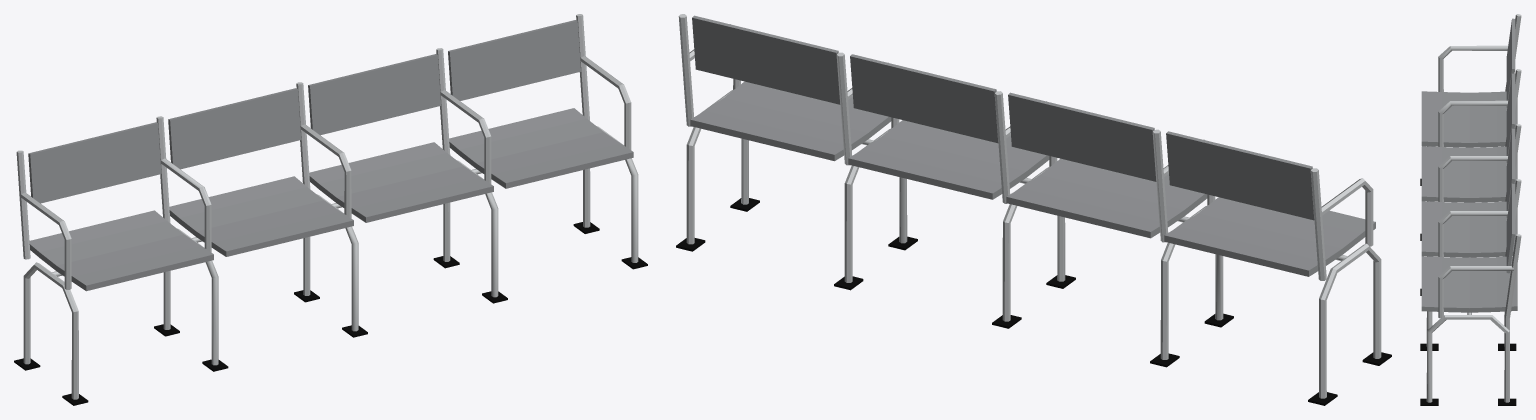
Rendered from gteki_bench_4seat.glb.
3 renders of one model, left to right at view 1: azimuth 30°, elevation 25°; view 2: azimuth 150°, elevation 25°; view 3: azimuth 270°, elevation 25°, orthographic. The views are drawn at different scales.
Parts seen in each view (by area): view 1: VIS_body; view 2: VIS_body; view 3: VIS_body.
Boxes of the visible parts, x1=… form: VIS_body: x1=14, y1=14, x2=647, y2=405; VIS_body: x1=676, y1=14, x2=1391, y2=405; VIS_body: x1=1420, y1=14, x2=1521, y2=405.
Size of what is drawn, in the model's own units: 2.34 by 0.8116 by 0.4424.
Materials: 1 (1 with a texture image).
